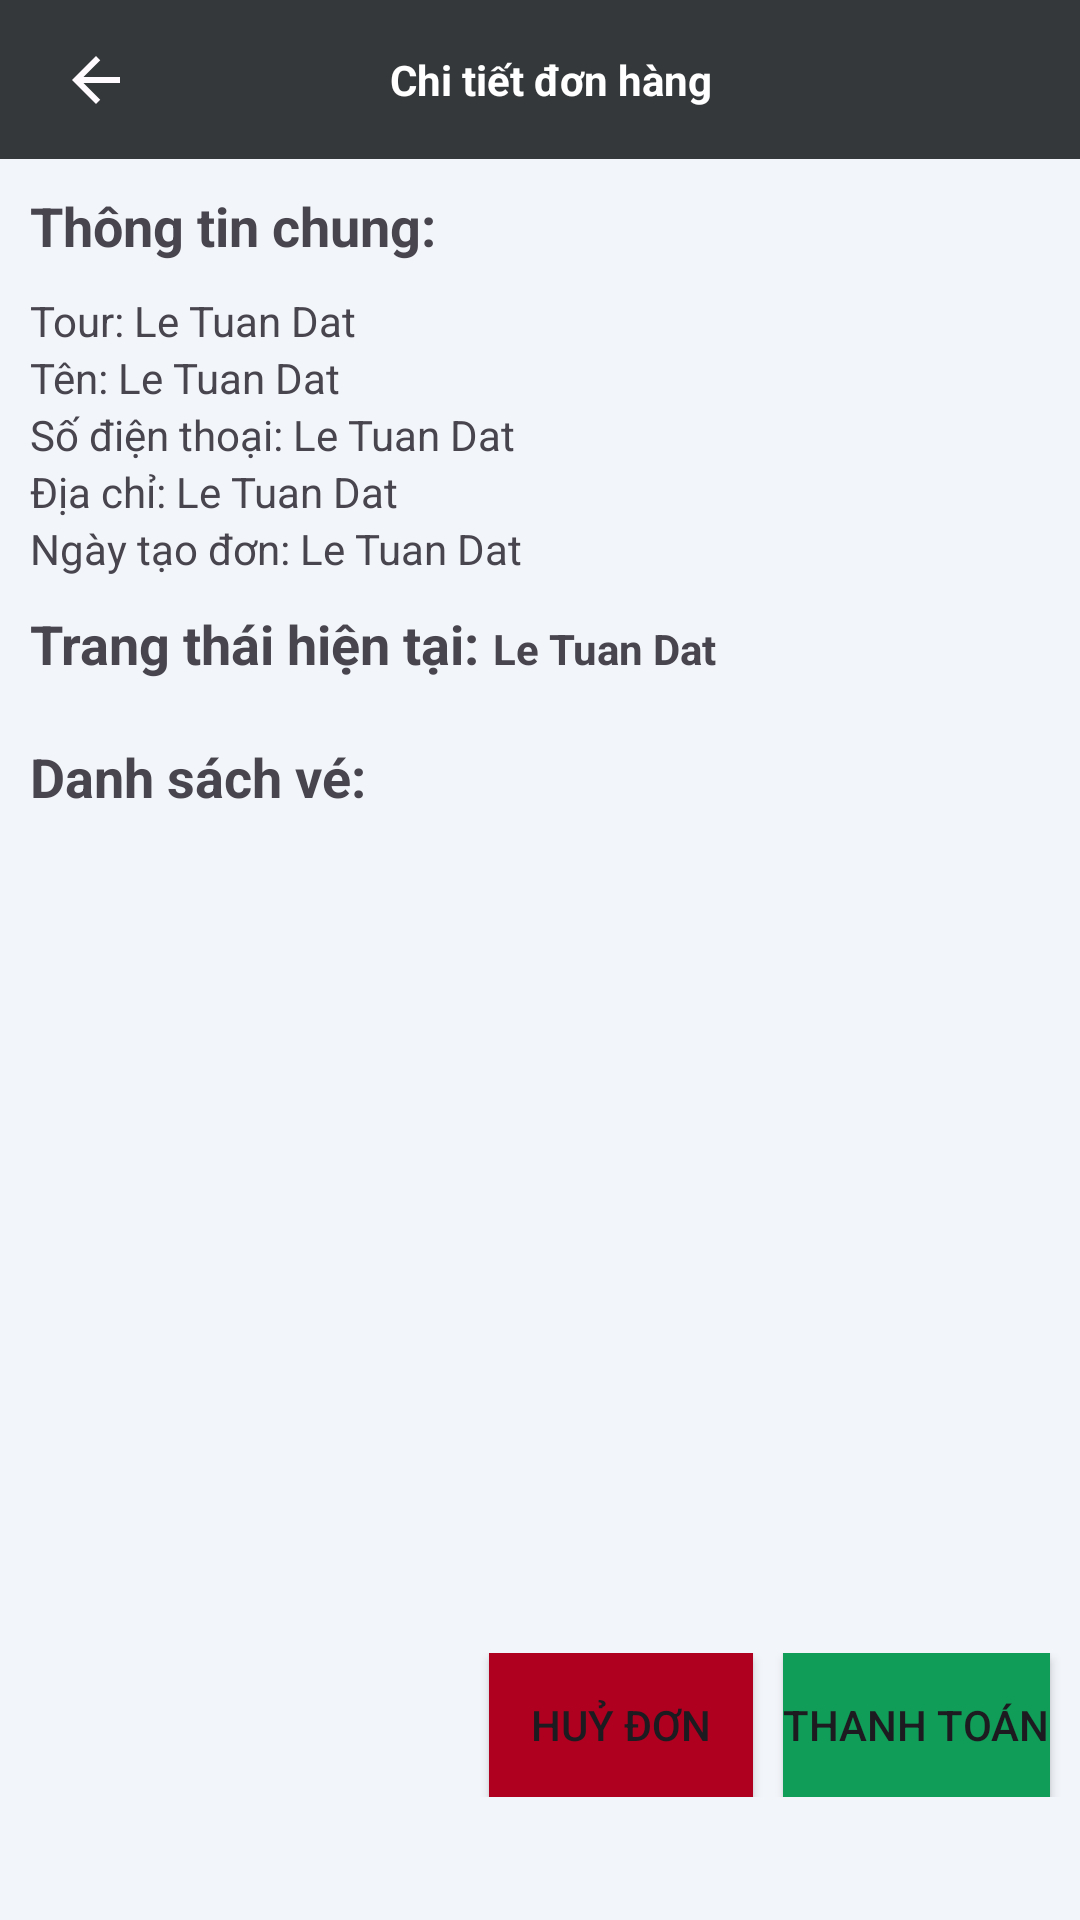

Screen size 1080 × 1920. Icon name, then its box in pixels as box=[x1, y1, x2, y2]:
iconarrow: box=[72, 56, 120, 104]
